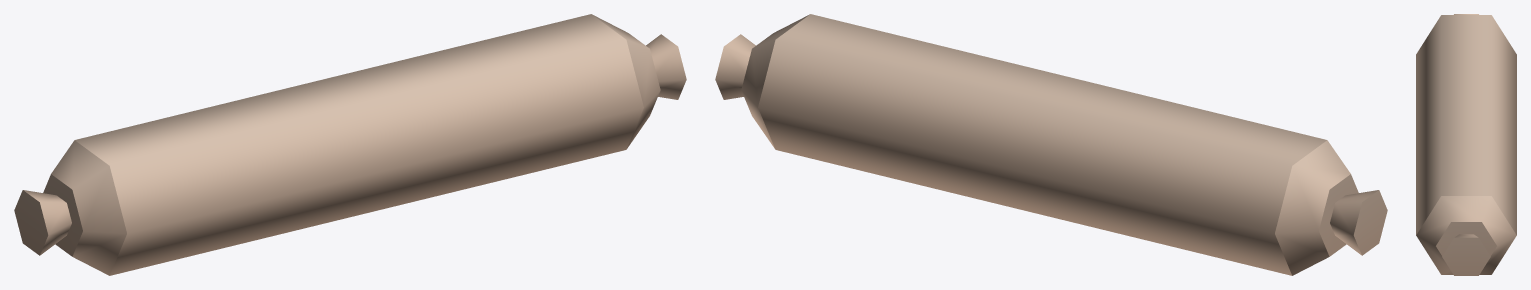
Rendered from hot-dog-raw.glb.
3 renders of one model, left to right at view 1: azimuth 30°, elevation 25°; view 2: azimuth 150°, elevation 25°; view 3: azimuth 270°, elevation 25°, orthographic. The views are drawn at different scales.
Parts seen in each view (by area): view 1: hot-dog-raw; view 2: hot-dog-raw; view 3: hot-dog-raw.
Part boxes in pixels (x1,y1,x2,y2): hot-dog-raw: (14, 14, 686, 275); hot-dog-raw: (715, 14, 1387, 275); hot-dog-raw: (1416, 14, 1516, 275).
Bounding box in the file's own units: 0.5859 × 0.0966 × 0.1116.
